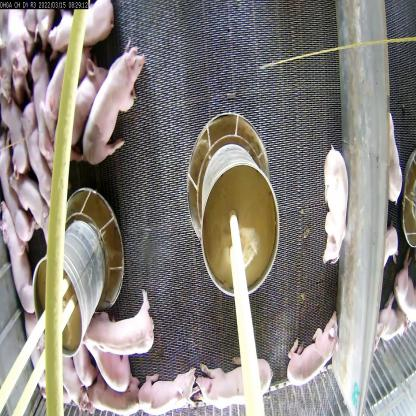Pig: (82, 39, 144, 172), (0, 203, 41, 334), (79, 287, 156, 356), (318, 143, 358, 274), (44, 32, 92, 140), (62, 50, 103, 155), (195, 353, 267, 412), (286, 312, 338, 390), (140, 359, 196, 415), (45, 0, 118, 41), (29, 40, 51, 173), (75, 375, 147, 415), (51, 345, 95, 404), (25, 96, 46, 216), (0, 141, 25, 237), (16, 157, 42, 239)
